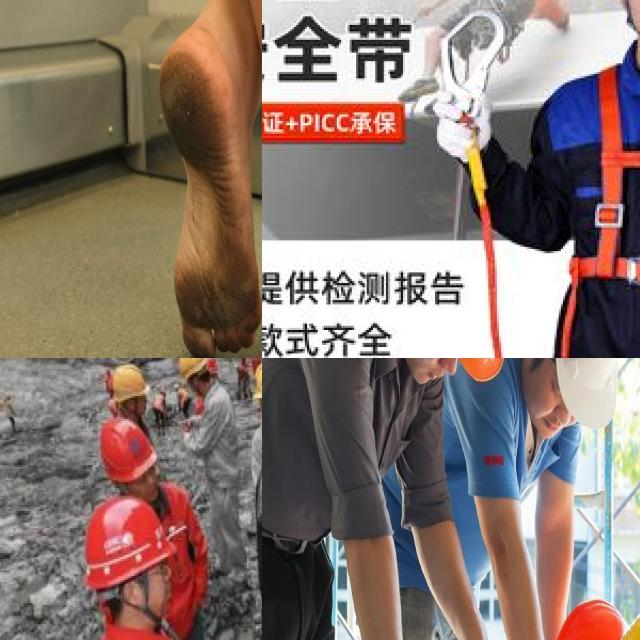Barefoots: (159, 22, 262, 358)
Harness: (556, 61, 640, 358)
No_Ear-Protection: (125, 576, 144, 605)
No_Glasses: (144, 462, 160, 476)
face_nomask: (148, 573, 170, 618), (140, 475, 160, 504)
head_helmet: (85, 496, 175, 591), (98, 419, 157, 483), (106, 363, 146, 403), (178, 358, 204, 381), (254, 363, 262, 400)
